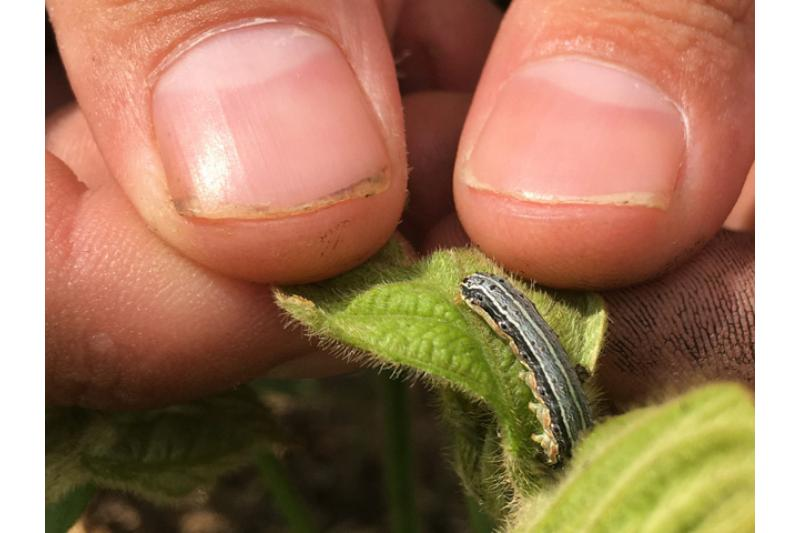fall-armyworm: (455, 273, 598, 480)
